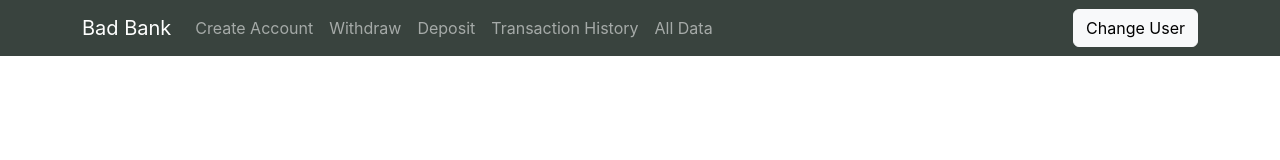
Test: displays nav bar tooltips › renders Withdraw nav tooltip
Hover over the link "Withdraw".
mouse_move(365, 28)  # box [329,18,401,38]
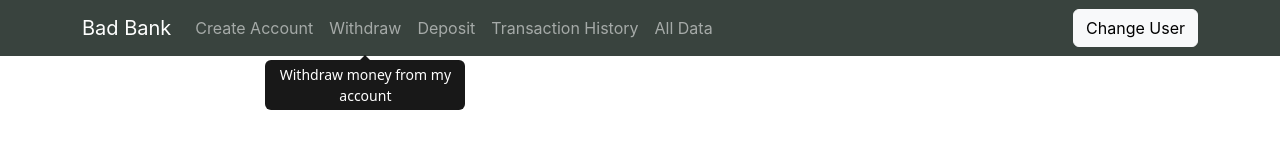
Check: the text "Withdraw money from my account" is shown, box [265,60,465,110]
